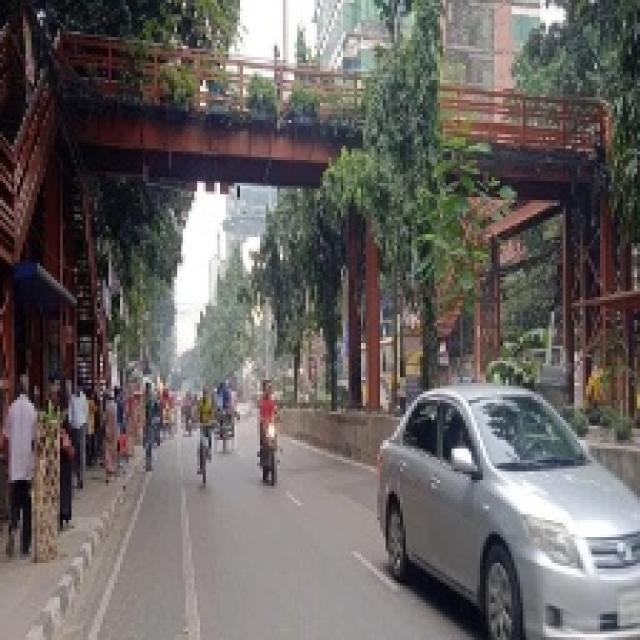bike: (255, 406, 285, 493)
car: (371, 370, 637, 615)
rickshaw: (212, 381, 237, 453)
